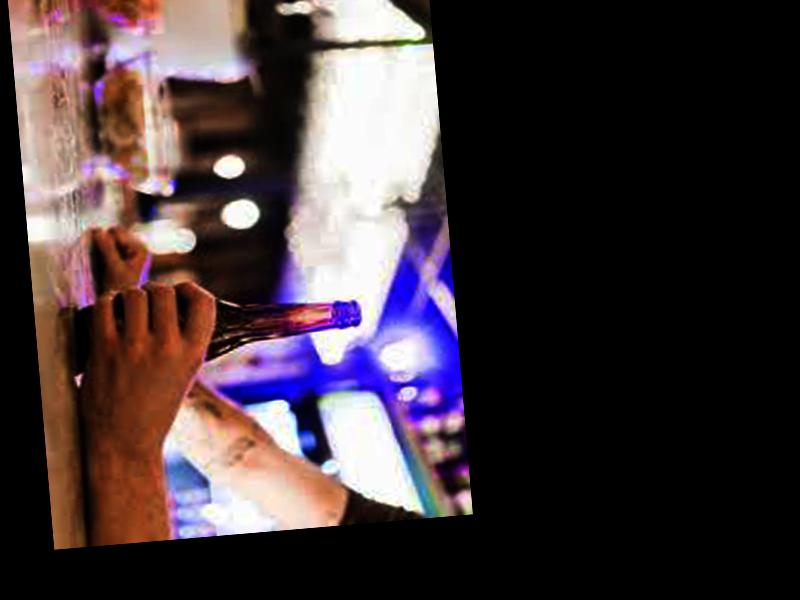Beer: (75, 284, 363, 371)
